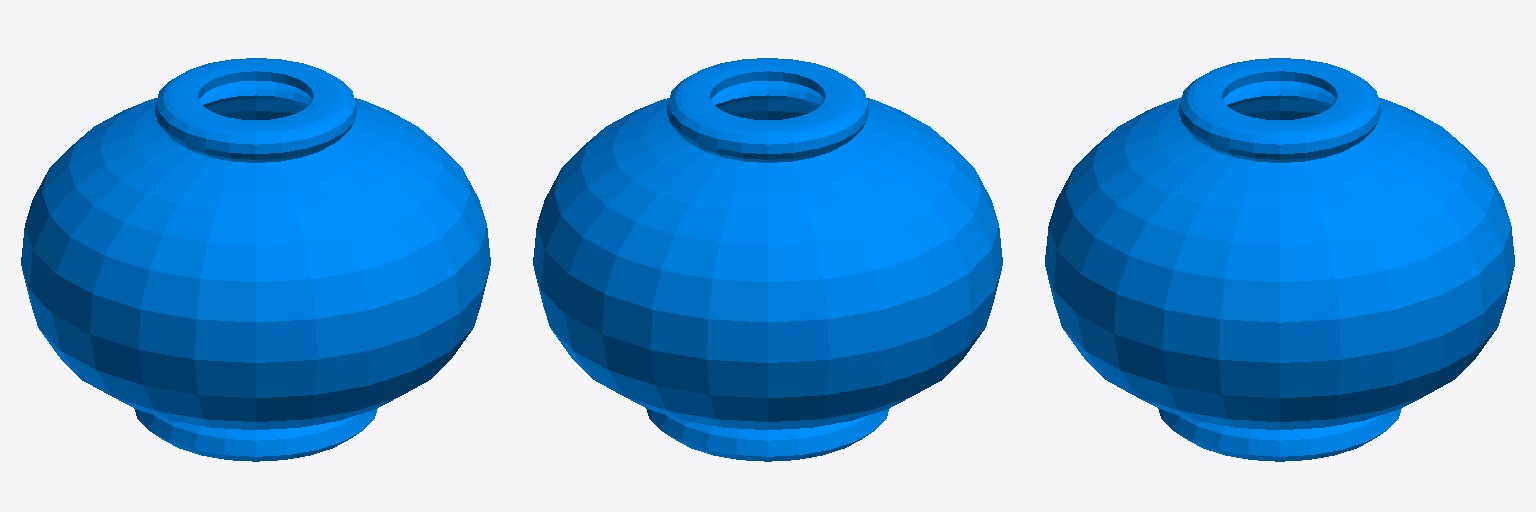
The model's file is GoldfishForSketchFab.obj.
The picture shows the model from 3 angles: view 1: azimuth 30°, elevation 25°; view 2: azimuth 150°, elevation 25°; view 3: azimuth 270°, elevation 25°; orthographic projection.
Parts seen in each view (by area): view 1: Bowl; view 2: Bowl; view 3: Bowl.
Part boxes in pixels (x1,y1,x2,y2): Bowl: (21, 58, 490, 461); Bowl: (533, 58, 1002, 461); Bowl: (1045, 58, 1514, 461).
Size of the model in its own units: 89.23 by 67.27 by 89.23.